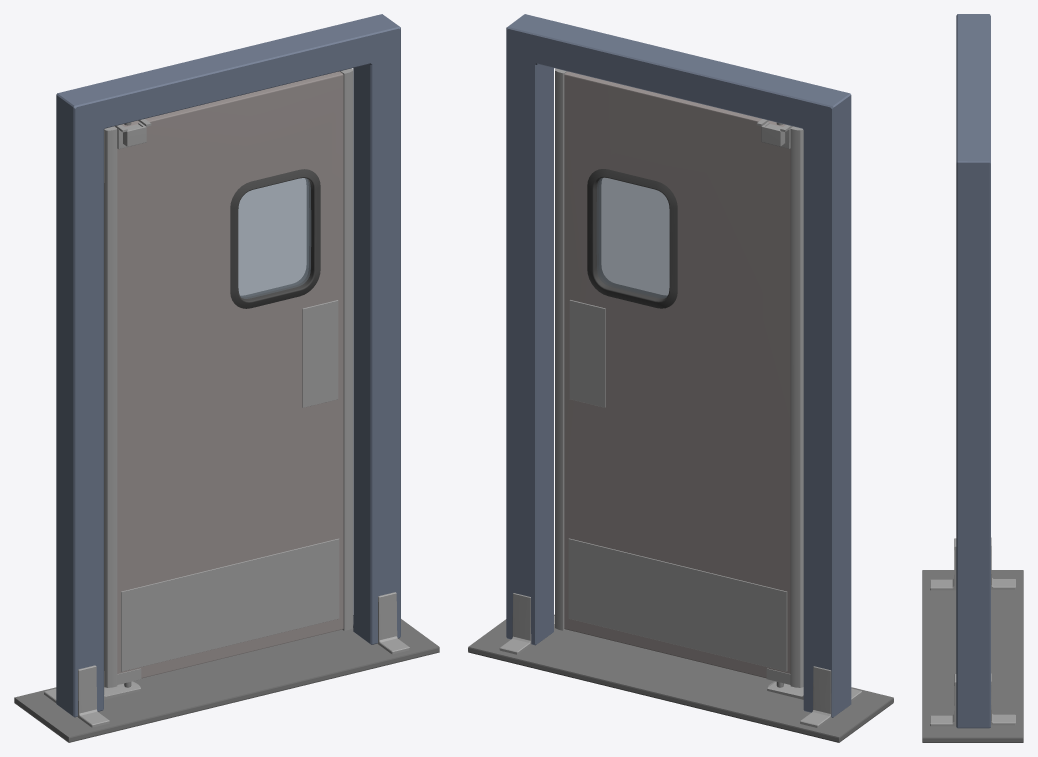
The model's file is Door_Flip.fbx.
3 renders of one model, left to right at view 1: azimuth 30°, elevation 25°; view 2: azimuth 150°, elevation 25°; view 3: azimuth 270°, elevation 25°, orthographic. The views are drawn at different scales.
Parts seen in each view (by area): view 1: FlipDoor, FlipDoorFrame; view 2: FlipDoor, FlipDoorFrame; view 3: FlipDoorFrame.
Boxes of the visible parts, left/top/right/bottom form: FlipDoor: left=104, top=68, right=352, bottom=687; FlipDoorFrame: left=14, top=14, right=439, bottom=742; FlipDoor: left=555, top=68, right=803, bottom=687; FlipDoorFrame: left=468, top=14, right=893, bottom=742; FlipDoorFrame: left=922, top=14, right=1023, bottom=742.
Bounding box in the file's own units: 142 × 226 × 36.24.
